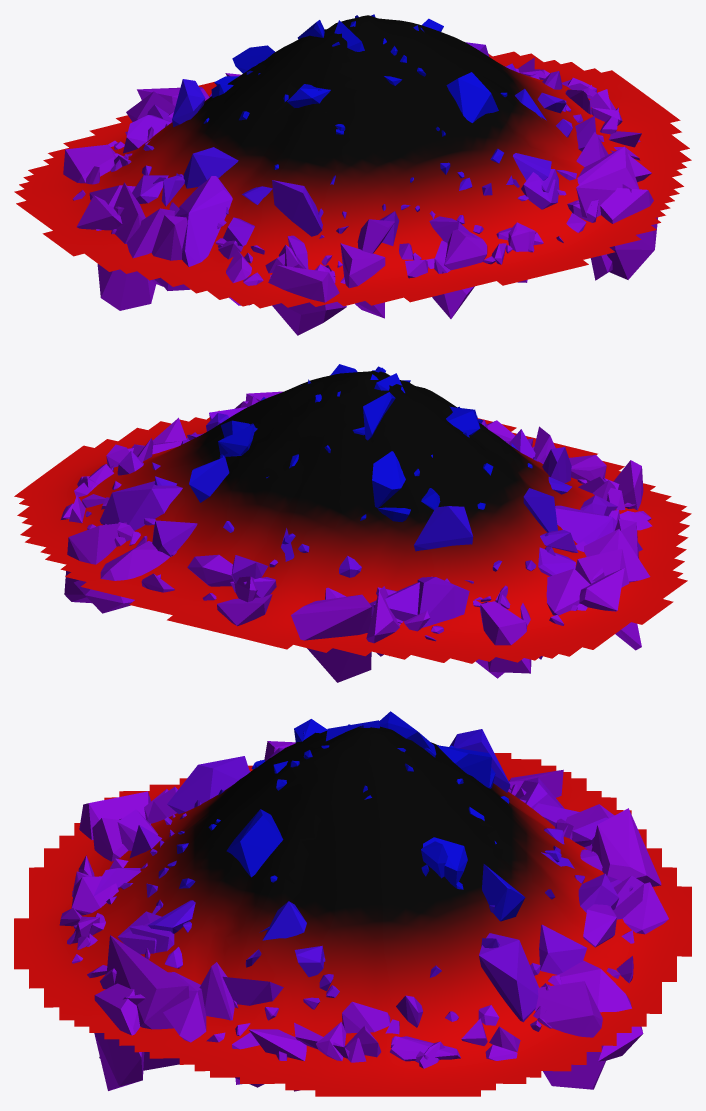
Rendered from CoalPile_A.fbx.
3 renders of one model, top to bottom at view 1: azimuth 30°, elevation 25°; view 2: azimuth 150°, elevation 25°; view 3: azimuth 270°, elevation 25°, orthographic. The views are drawn at different scales.
Visible parts, largest first — view 1: CoalPile_A_LOD0; view 2: CoalPile_A_LOD0; view 3: CoalPile_A_LOD0.
Part boxes in pixels (bbox=[...]): CoalPile_A_LOD0: bbox=[14, 14, 691, 335]; CoalPile_A_LOD0: bbox=[14, 364, 691, 682]; CoalPile_A_LOD0: bbox=[14, 711, 691, 1096].
Size of what is drawn, in the model's own units: 5.5 by 1.97 by 4.5.
